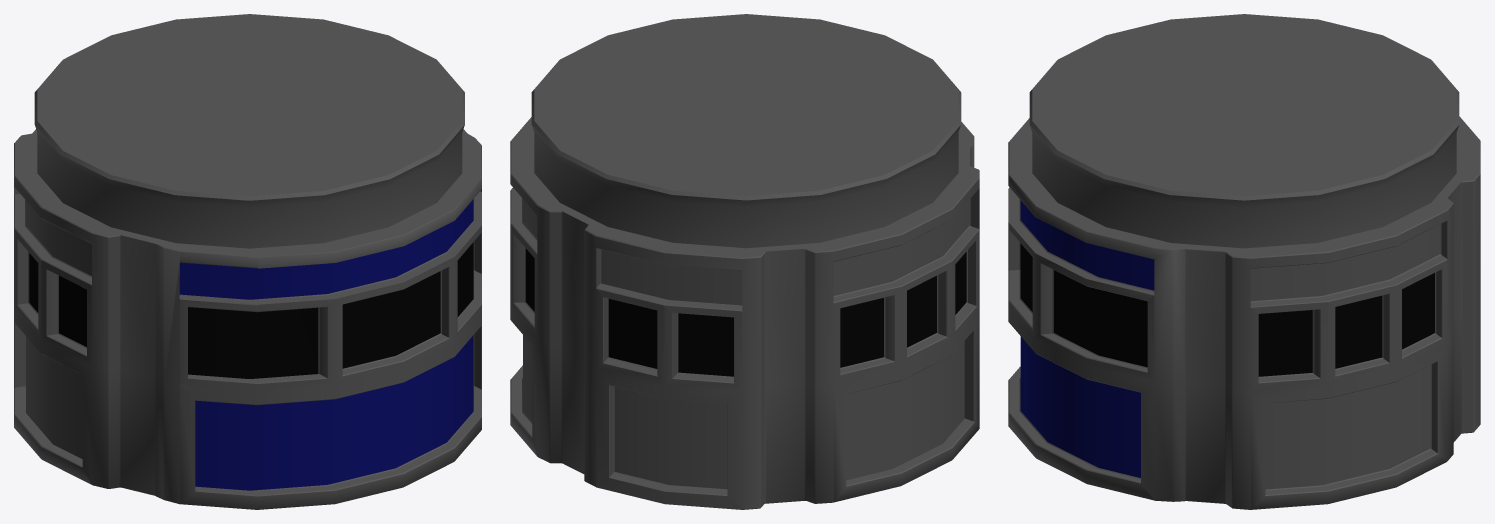
The model's file is 경비소_재질.FBX.
3 renders of one model, left to right at view 1: azimuth 30°, elevation 25°; view 2: azimuth 150°, elevation 25°; view 3: azimuth 270°, elevation 25°, orthographic.
Visible parts, largest first — view 1: Cylinder001; view 2: Cylinder001; view 3: Cylinder001.
Part boxes in pixels (bbox=[...]): Cylinder001: bbox=[14, 14, 481, 509]; Cylinder001: bbox=[510, 14, 979, 509]; Cylinder001: bbox=[1008, 14, 1480, 509].
Size of the model in its own units: 83.56 by 58.83 by 82.61.
